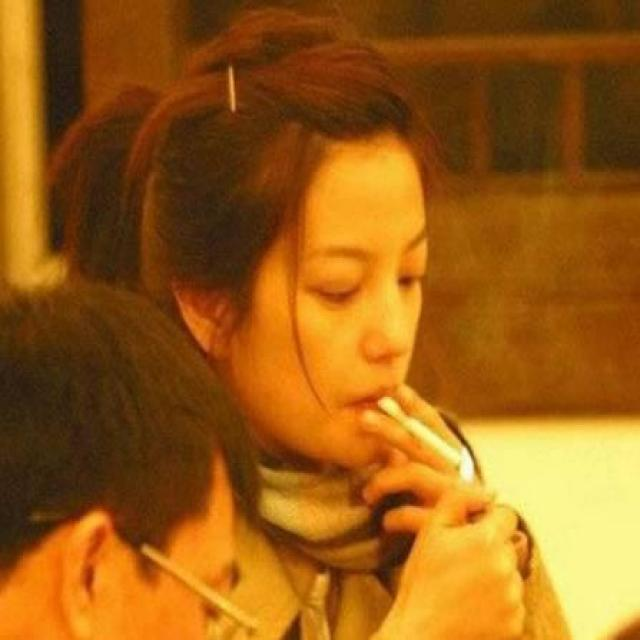cigarette: (346, 377, 494, 519)
